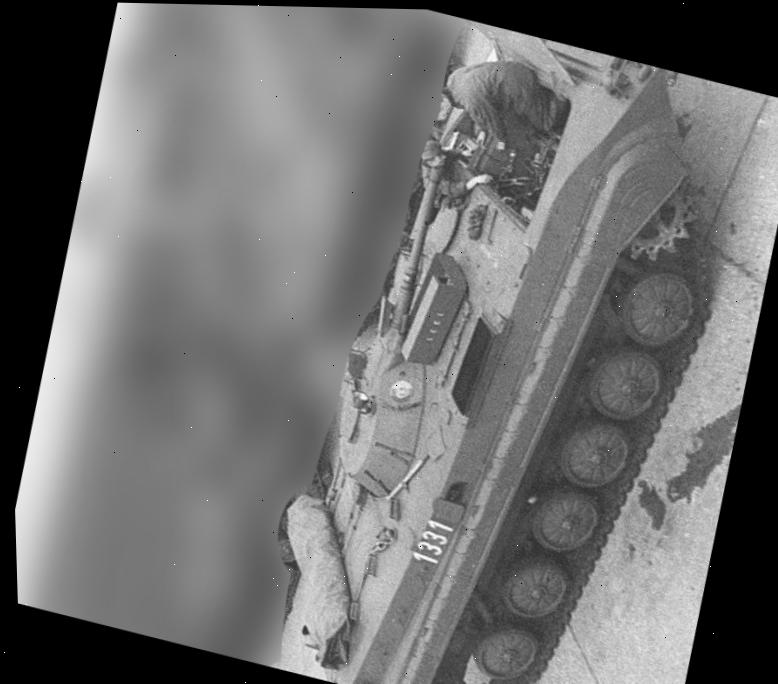armored_car: (246, 5, 773, 684)
